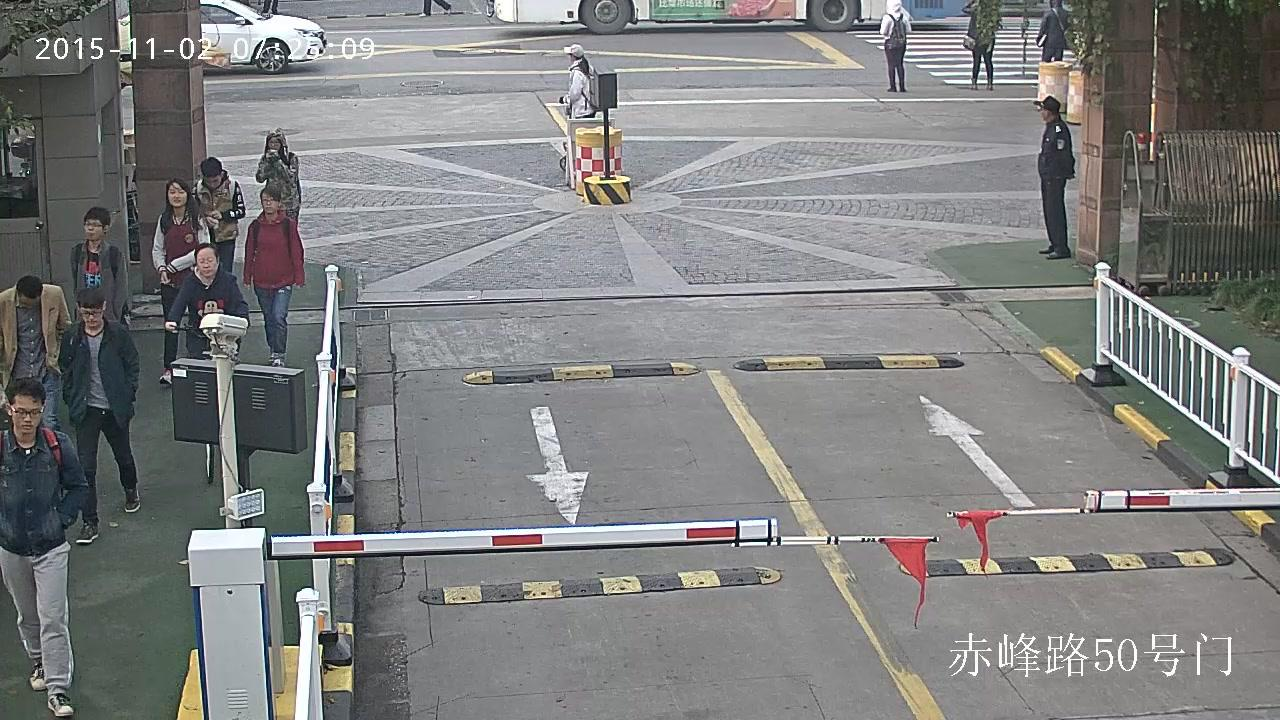person: (0, 375, 91, 716), (59, 287, 141, 546), (164, 241, 250, 482), (152, 177, 214, 384), (242, 186, 305, 367), (0, 275, 72, 431), (164, 242, 250, 359), (70, 205, 129, 325), (1033, 95, 1076, 259), (190, 156, 245, 273), (255, 128, 300, 222), (962, 0, 996, 90), (879, 0, 911, 93), (563, 43, 597, 118), (1036, 0, 1069, 63)
